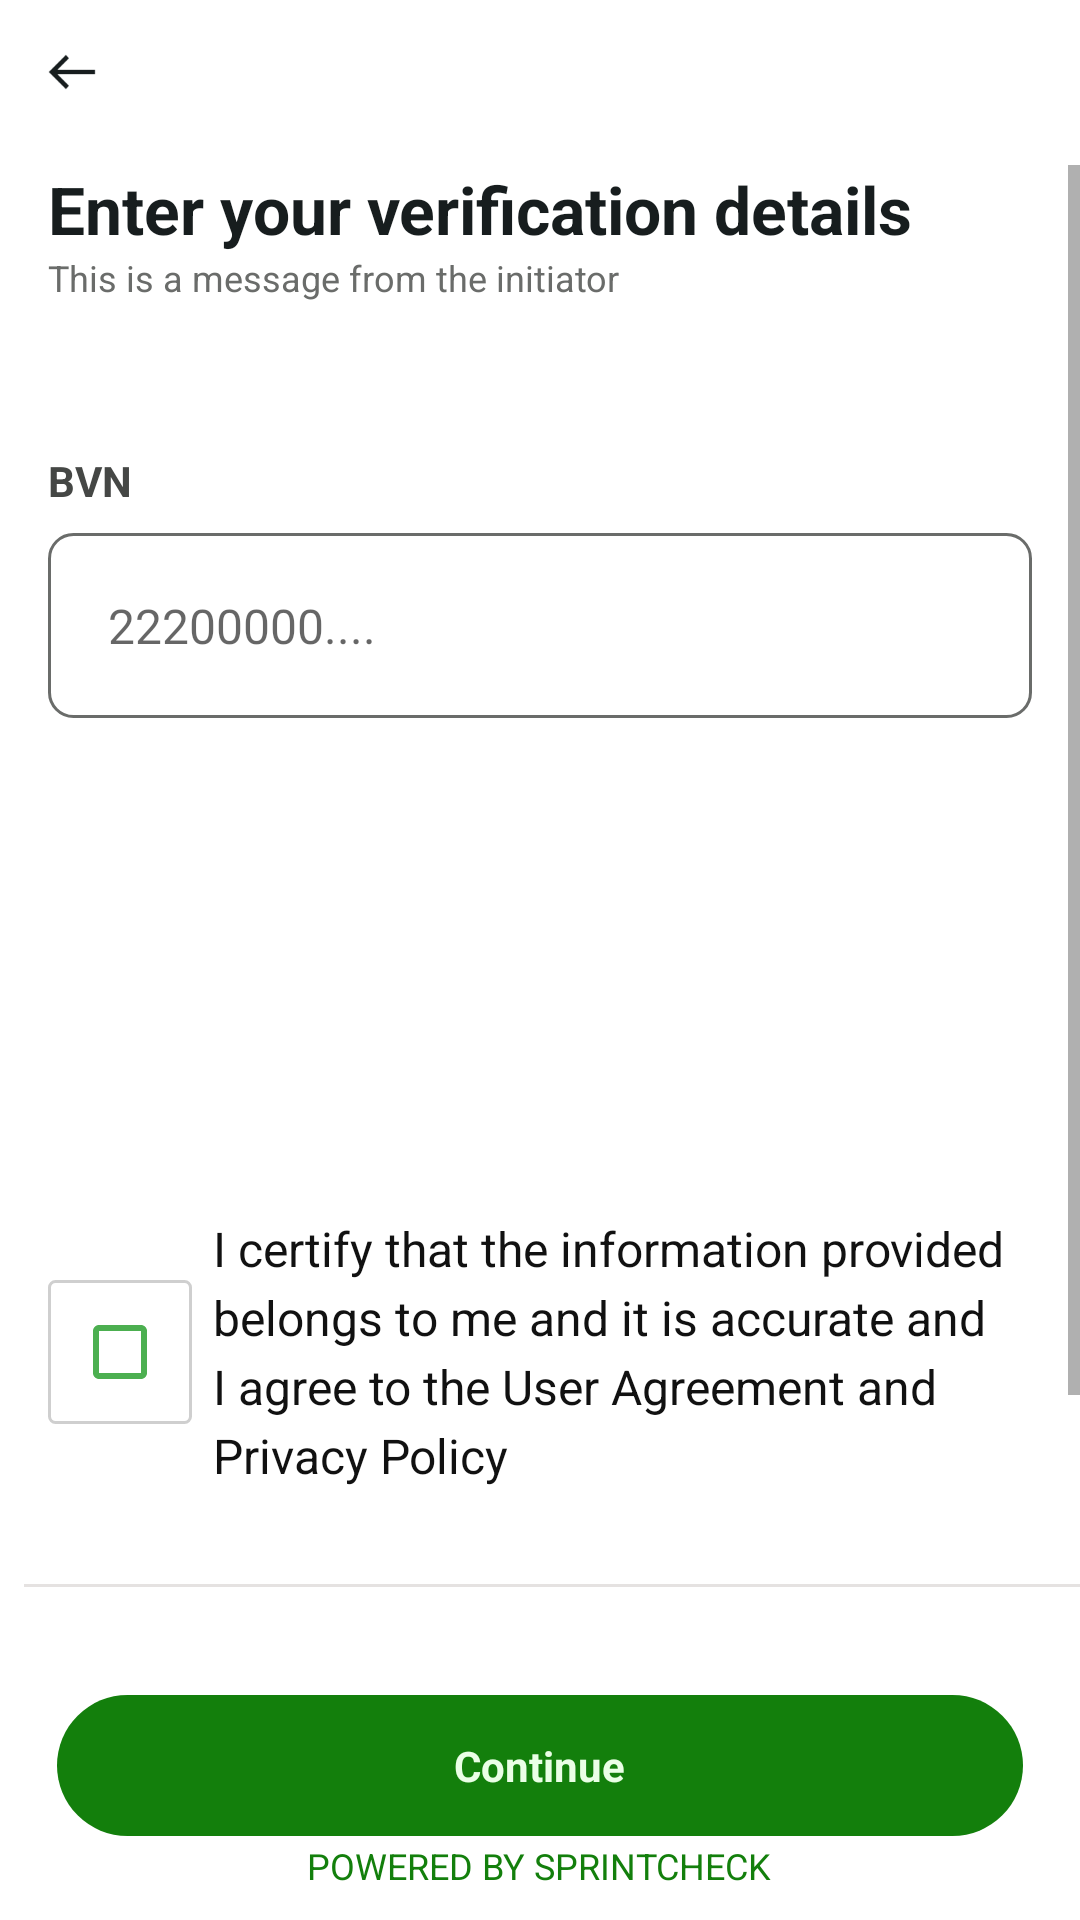

Icon click points for this 1080*1920 phone screenshot, format point (x, y):
backarrow: point (72, 72)
